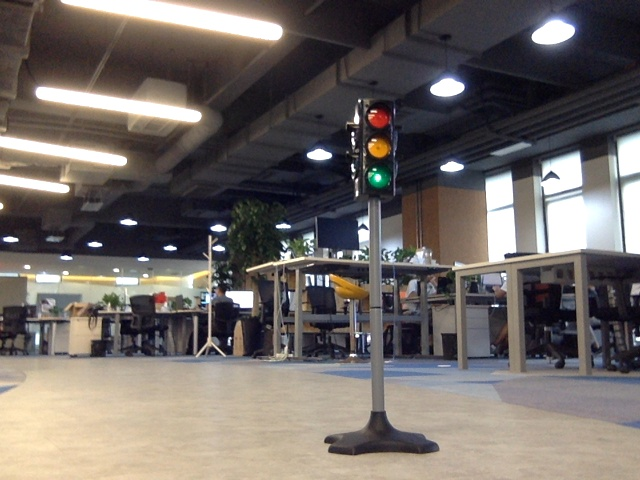green: (364, 100, 390, 189)
